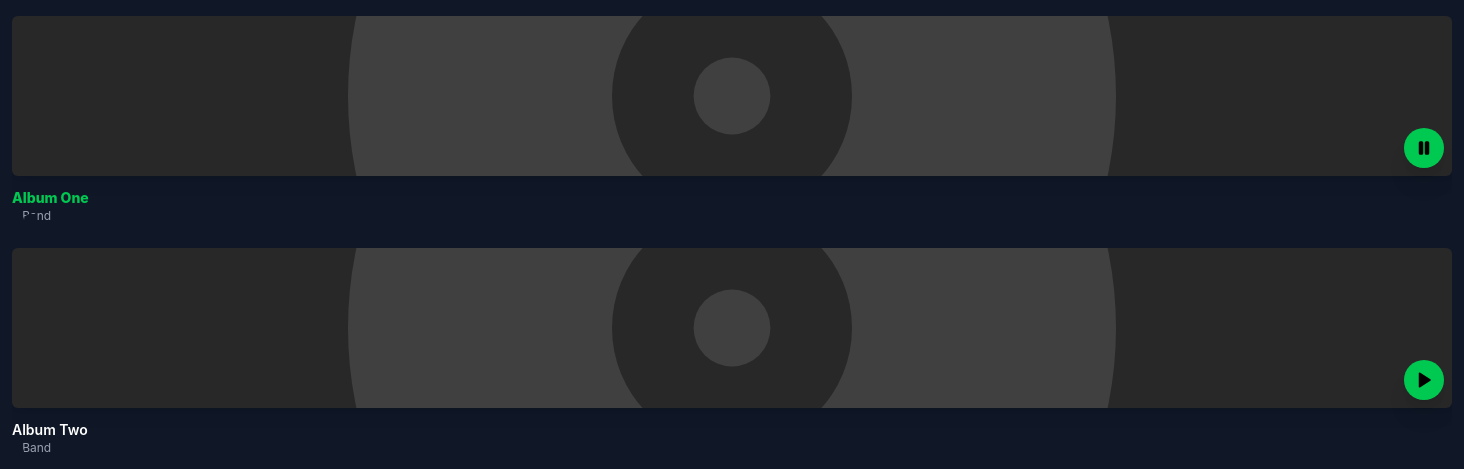
Test: AlbumCard › pauses instead of restarting when clicking the album being played
Click the button named "Pause Album One" at (1424, 148), box [1404, 128, 1444, 168]
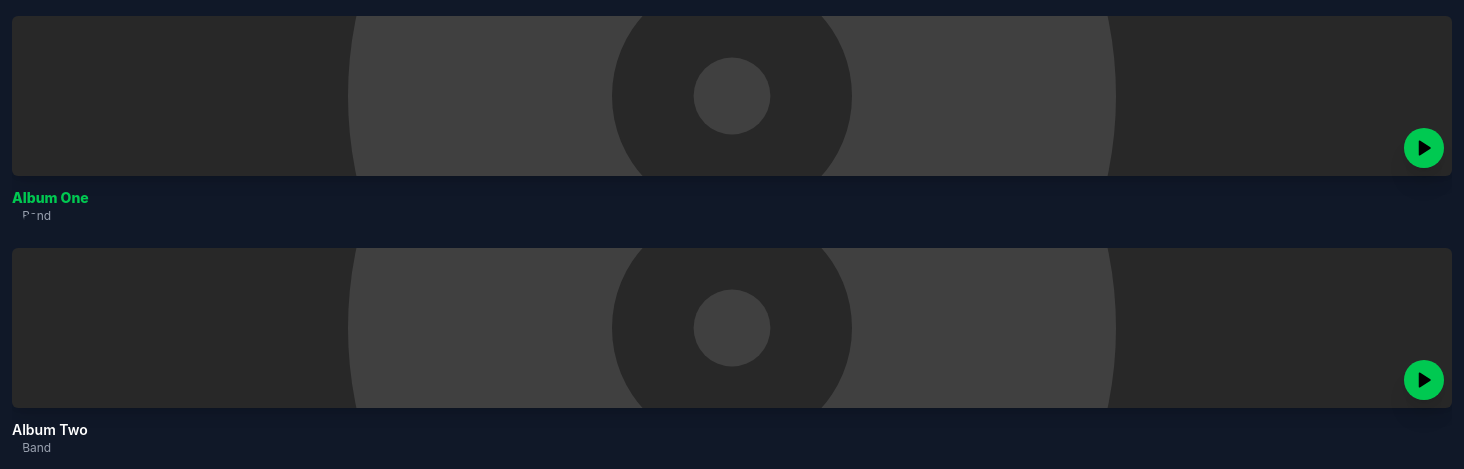
Result: the button named "Play Album One" is shown at [1404, 128, 1444, 168]
